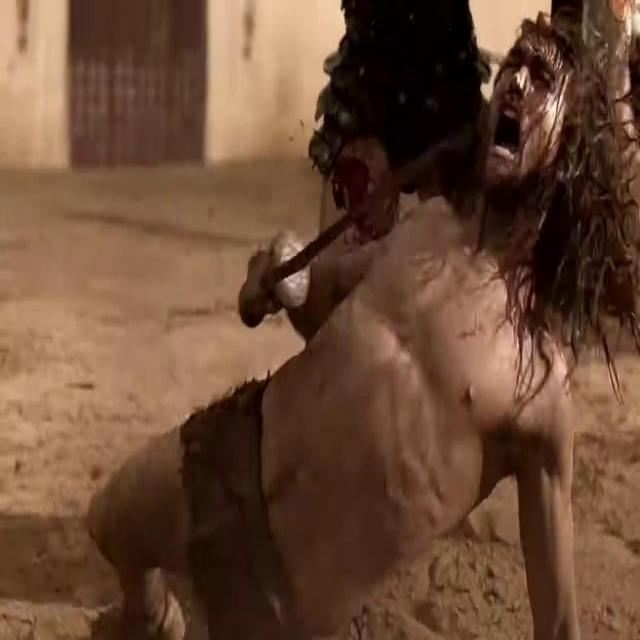flood: (470, 16, 589, 198)
